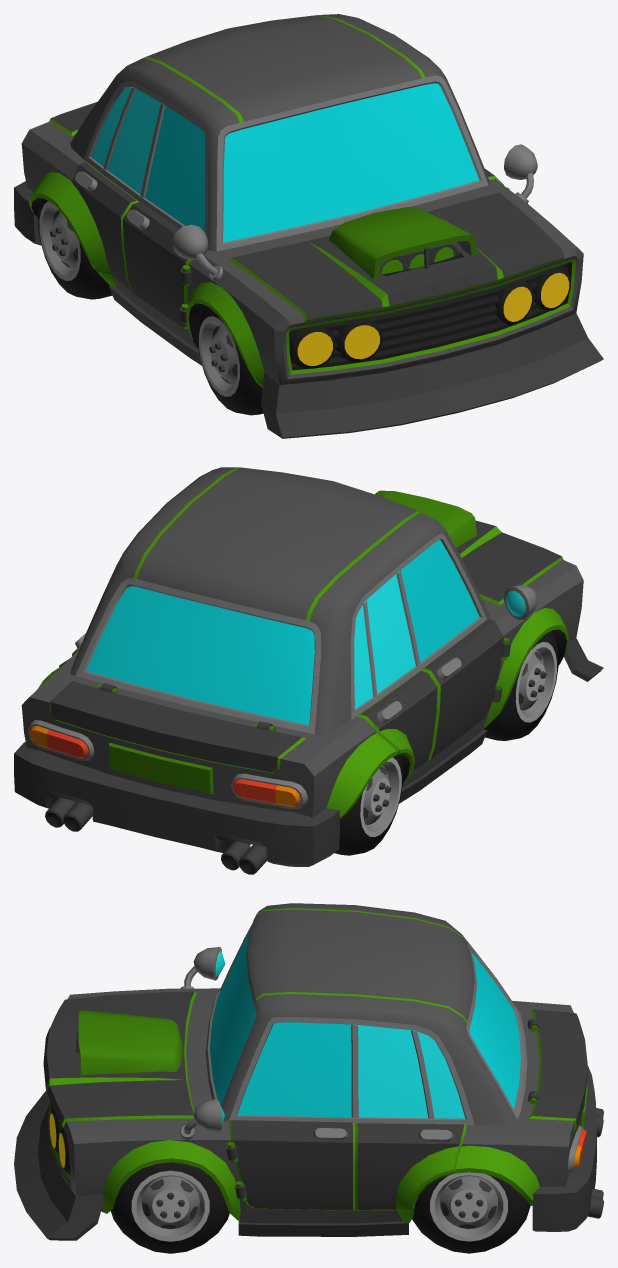
The model's file is VEH2-A.fbx.
3 renders of one model, top to bottom at view 1: azimuth 30°, elevation 25°; view 2: azimuth 150°, elevation 25°; view 3: azimuth 270°, elevation 25°, orthographic. The views are drawn at different scales.
Visible parts, largest first — view 1: VEH2_A, V2A_Wheel_FR, V2A_Wheel_BR; view 2: VEH2_A, V2A_Wheel_FR, V2A_Wheel_BR; view 3: VEH2_A, V2A_Wheel_FL, V2A_Wheel_BL.
Part boxes in pixels (x1,y1,x2,y2): VEH2_A: (14,14,603,438); V2A_Wheel_FR: (197,305,263,415); V2A_Wheel_BR: (37,198,112,299); VEH2_A: (14,467,603,874); V2A_Wheel_FR: (484,631,558,740); V2A_Wheel_BR: (334,755,402,855); VEH2_A: (14,903,603,1240); V2A_Wheel_FL: (111,1162,229,1253); V2A_Wheel_BL: (412,1172,530,1253).
Bounding box in the file's own units: 280 × 193 × 422.
Materials: 1 (1 with a texture image).
